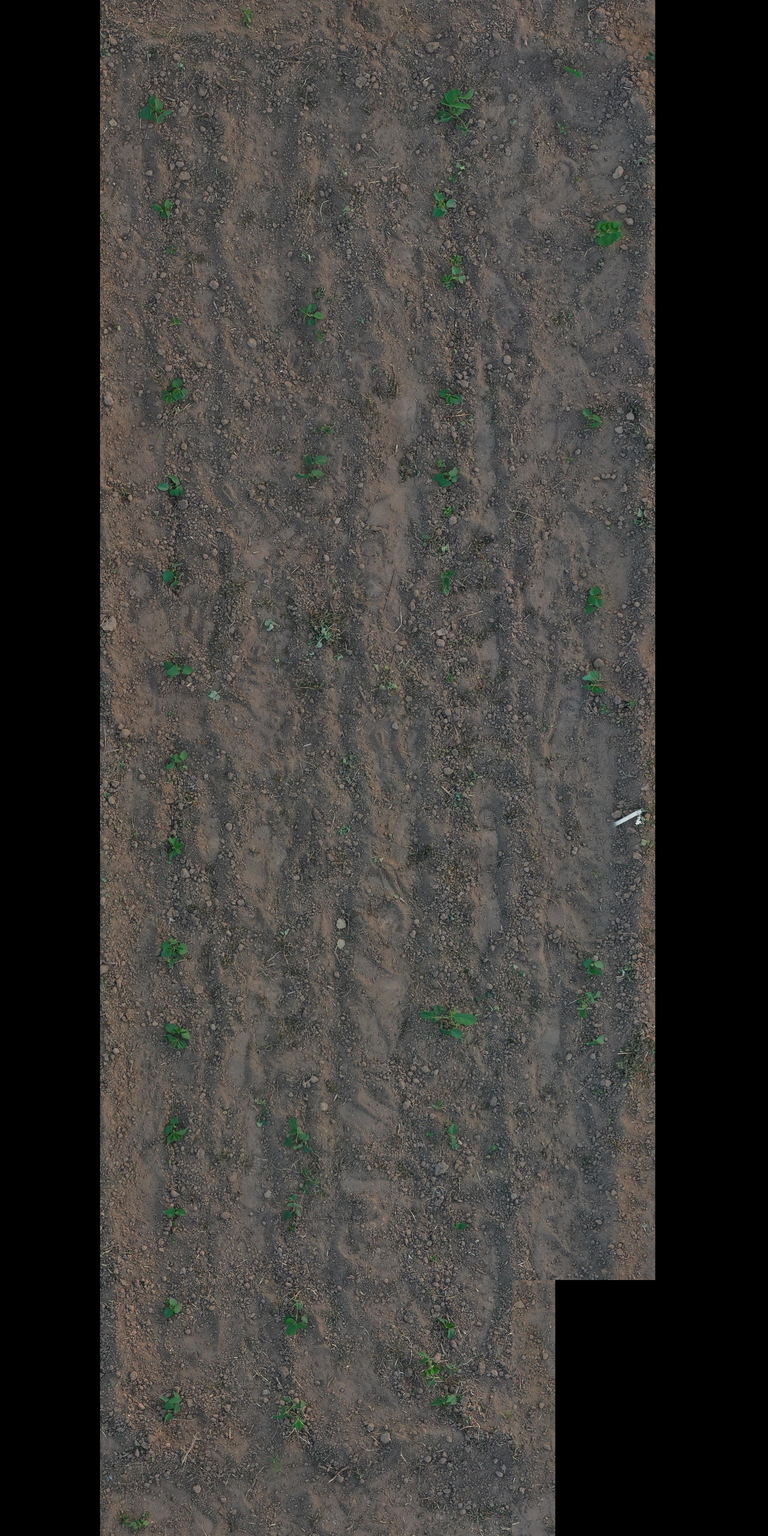s: (436, 91, 473, 136), (420, 1004, 478, 1024), (282, 1298, 308, 1336), (417, 1351, 441, 1386), (284, 1117, 310, 1147), (272, 1395, 301, 1420), (300, 302, 324, 327), (158, 1390, 182, 1414), (592, 219, 611, 247), (283, 1194, 302, 1222), (291, 1399, 307, 1432), (601, 220, 622, 243), (433, 198, 457, 218), (139, 94, 157, 120), (162, 563, 184, 584), (292, 1132, 313, 1154), (437, 1317, 457, 1340), (166, 664, 195, 679), (438, 388, 462, 406), (160, 943, 188, 958), (432, 466, 458, 482), (165, 1024, 191, 1040), (154, 98, 174, 118), (167, 1126, 188, 1145), (160, 388, 183, 405), (167, 836, 184, 859), (432, 191, 446, 218), (429, 1393, 458, 1406), (171, 377, 188, 399), (148, 103, 165, 124), (168, 474, 184, 496), (448, 88, 475, 101), (166, 1034, 187, 1050), (157, 482, 179, 497), (589, 586, 604, 608), (576, 1001, 593, 1020), (163, 1297, 178, 1318), (294, 469, 325, 479), (164, 1116, 179, 1136), (447, 1123, 458, 1150), (304, 454, 328, 466), (582, 684, 606, 696), (439, 475, 461, 488), (584, 1033, 606, 1046), (582, 408, 601, 423), (582, 958, 605, 970), (152, 203, 168, 220), (451, 266, 466, 284), (440, 1028, 464, 1039), (160, 937, 180, 950), (170, 750, 188, 764), (582, 670, 600, 684), (583, 990, 601, 1004), (563, 66, 582, 78), (441, 274, 455, 290), (170, 572, 184, 588), (585, 594, 596, 614), (164, 1207, 186, 1217), (164, 1402, 174, 1422), (164, 660, 174, 679), (441, 577, 451, 596), (169, 1303, 182, 1317), (586, 966, 603, 976), (164, 199, 171, 219), (450, 256, 464, 266), (165, 762, 188, 768), (440, 570, 455, 579), (454, 1222, 467, 1230)
